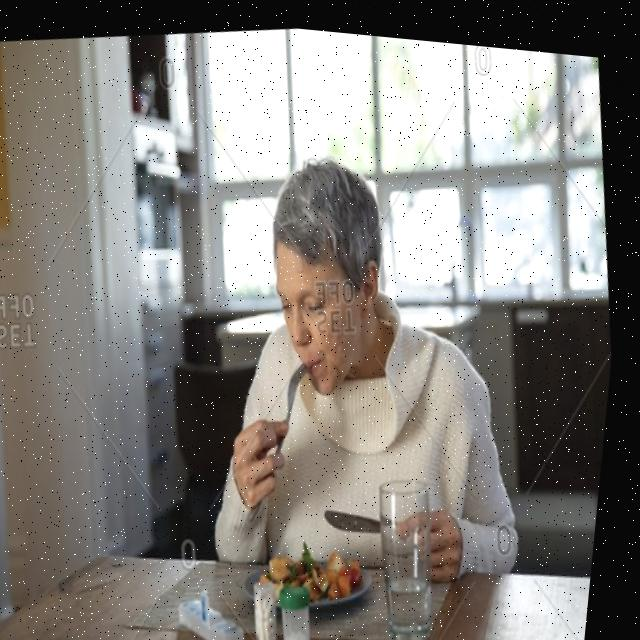eating-person: (115, 93, 576, 640)
